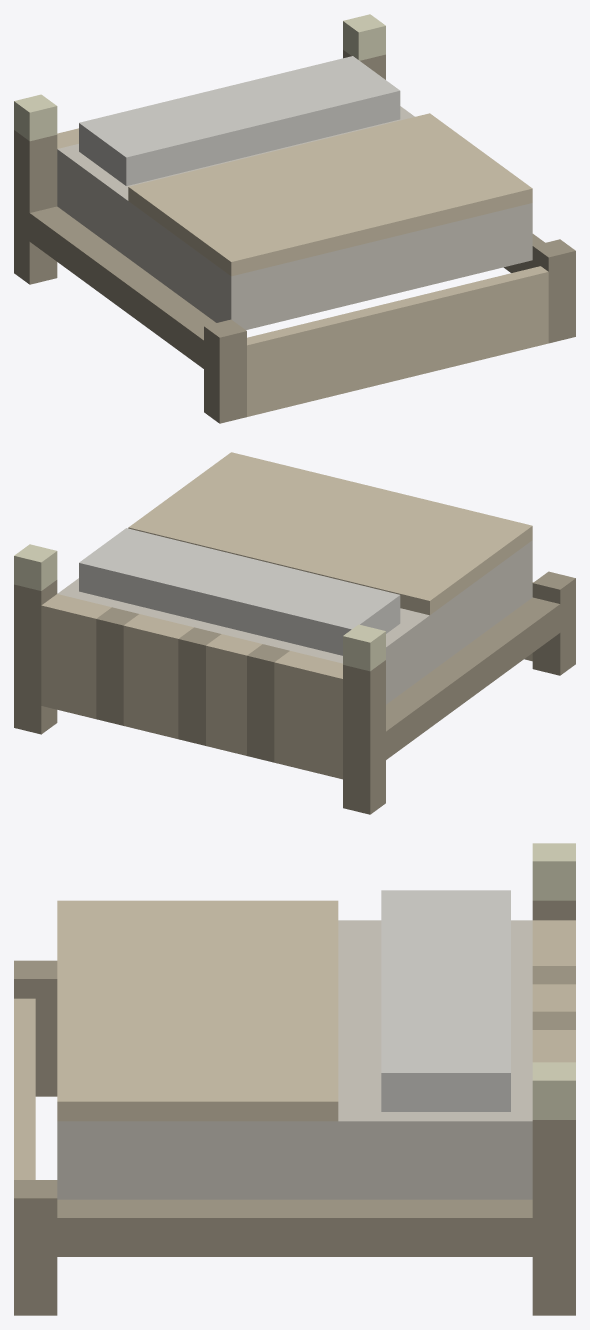
Rendered from cama_doble_chopo_01.glb.
3 views of the same model, one above another, from view 1: azimuth 30°, elevation 25°; view 2: azimuth 150°, elevation 25°; view 3: azimuth 270°, elevation 25° (orthographic). The views are drawn at different scales.
Parts seen in each view (by area): view 1: cama_doble_chopo; view 2: cama_doble_chopo; view 3: cama_doble_chopo.
Boxes of the visible parts, left/top/right/bottom form: cama_doble_chopo: left=14, top=14, right=575, bottom=423; cama_doble_chopo: left=14, top=452, right=575, bottom=814; cama_doble_chopo: left=14, top=843, right=575, bottom=1315.
Bounding box in the file's own units: 2 × 0.9231 × 2.
